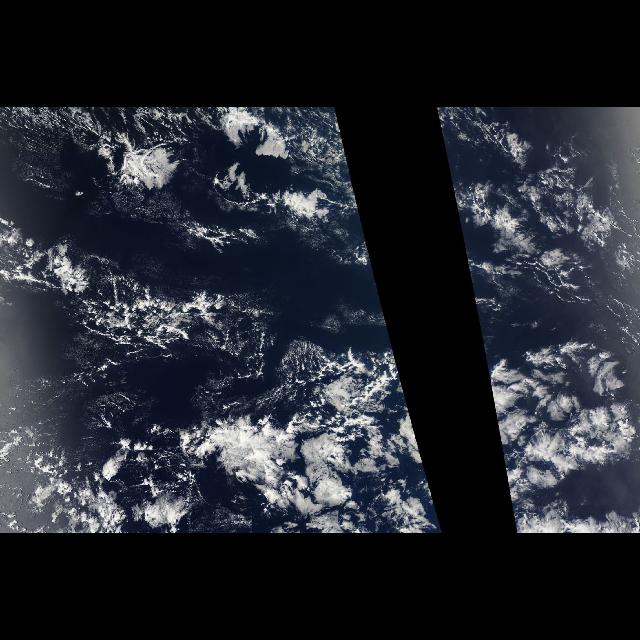Fish: (16, 219, 338, 369)
Gravel: (460, 125, 640, 327)
